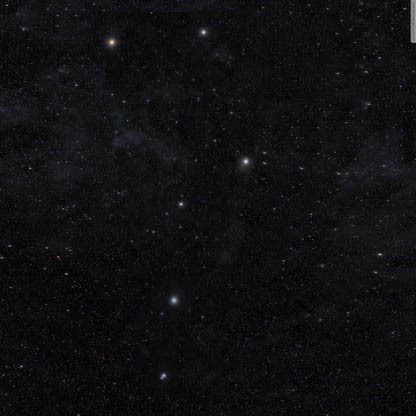Ursa Major: (225, 145, 256, 181), (161, 288, 192, 319), (164, 192, 194, 220), (186, 19, 216, 46), (152, 359, 174, 392), (99, 28, 123, 50)
